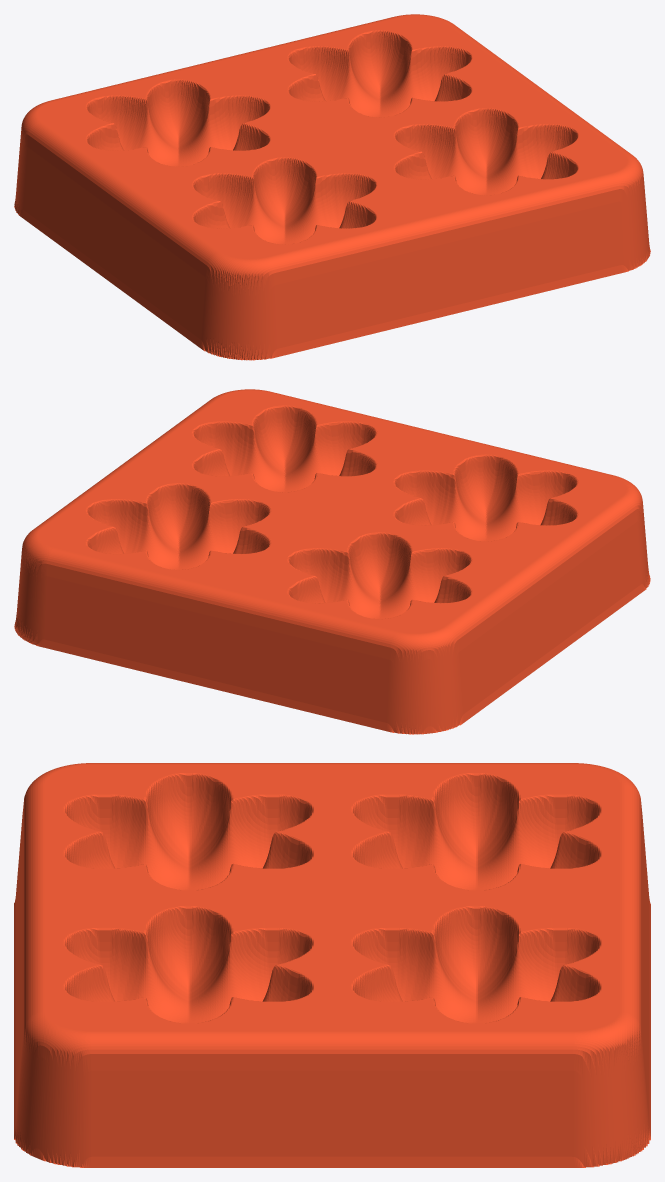
File: mold.glb
The picture shows the model from 3 angles, top to bottom: view 1: azimuth 30°, elevation 25°; view 2: azimuth 150°, elevation 25°; view 3: azimuth 270°, elevation 25°; orthographic projection. The views are drawn at different scales.
Parts seen in each view (by area): view 1: geometry_0; view 2: geometry_0; view 3: geometry_0.
Part boxes in pixels (x1,y1,x2,y2): geometry_0: (14, 14, 650, 360); geometry_0: (14, 389, 650, 734); geometry_0: (14, 763, 650, 1167).
Size of the model in its own units: 0.0808 by 0.0159 by 0.0744.
